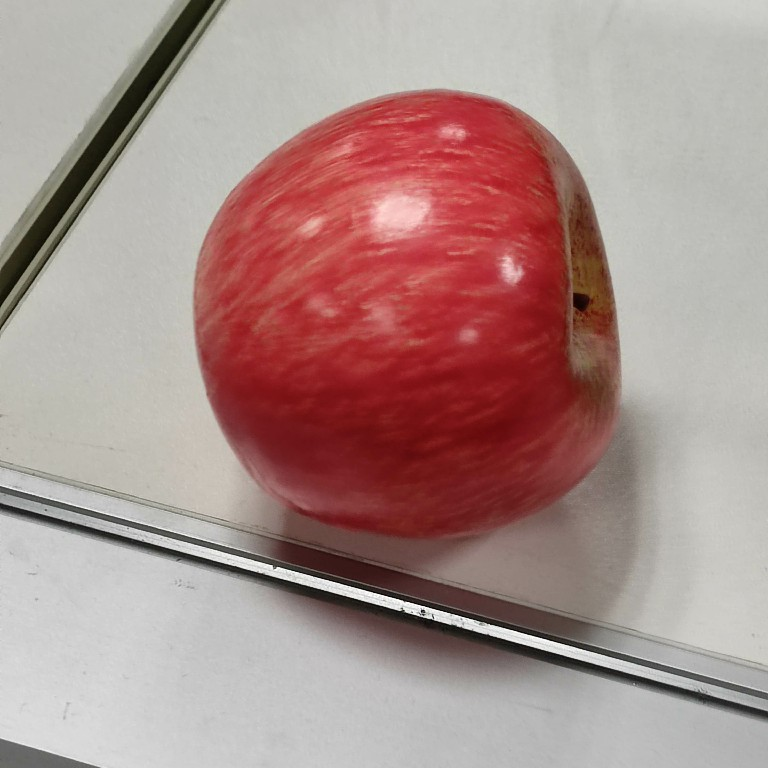fruit_apple: (187, 83, 630, 548)
